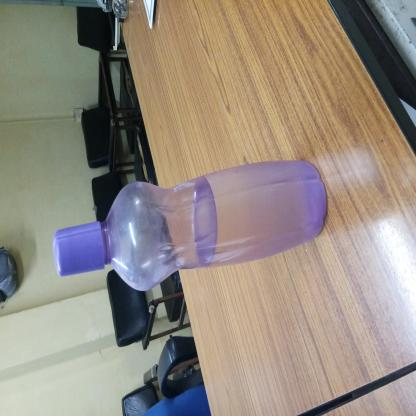bottle: (92, 68, 195, 416)
